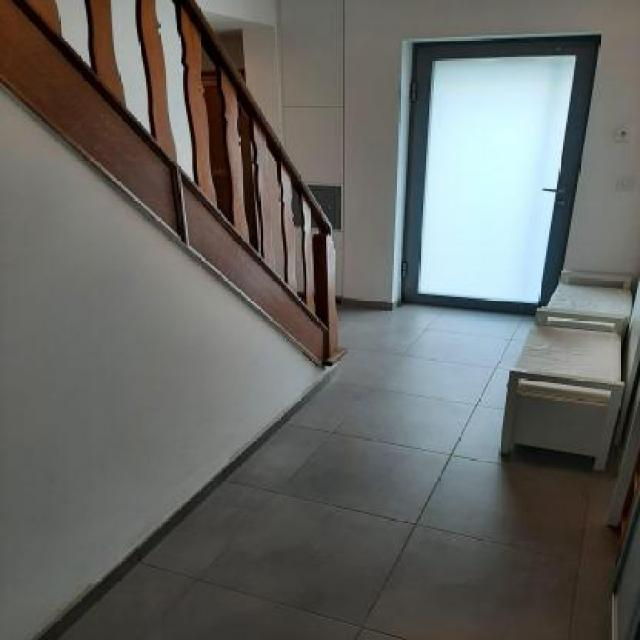Floor: (58, 299, 622, 640)
